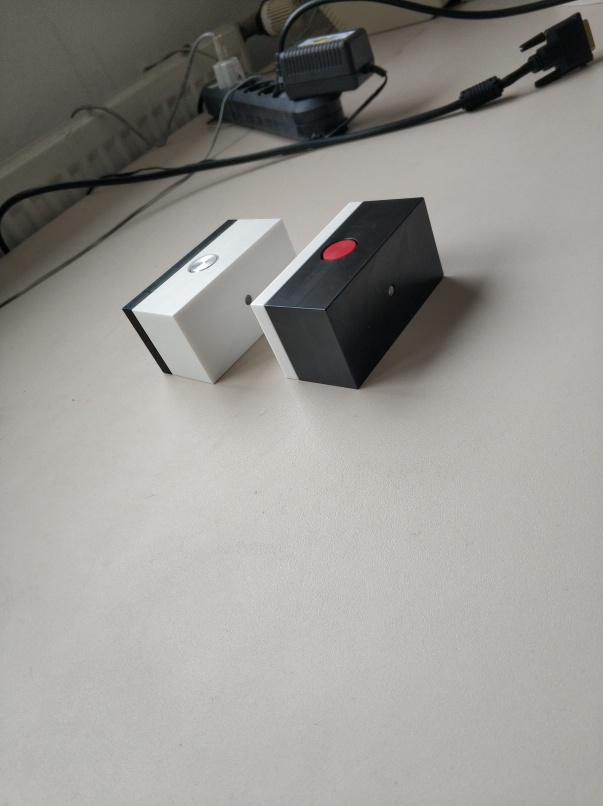black+white+silver: (119, 214, 300, 390)
white+black+red: (249, 196, 445, 393)
